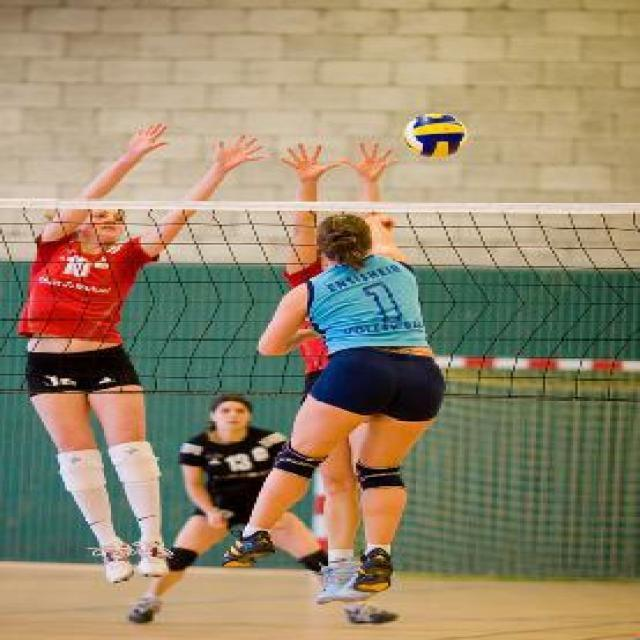volleyball: (406, 111, 464, 158)
